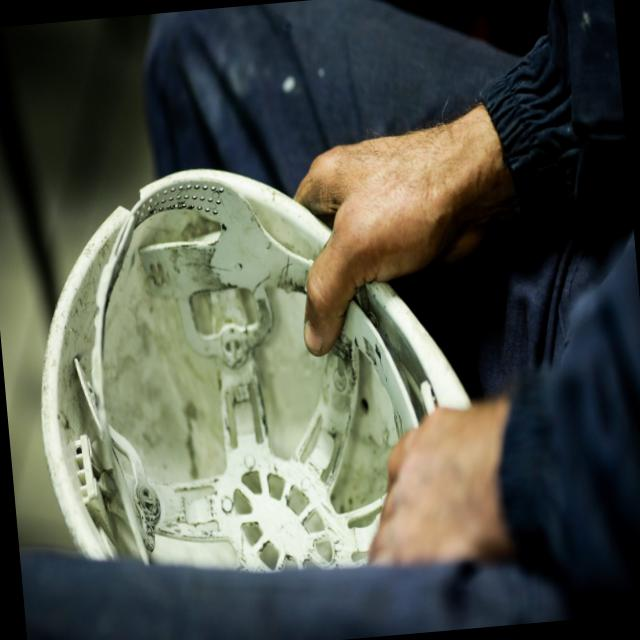helmet: (10, 128, 492, 615)
